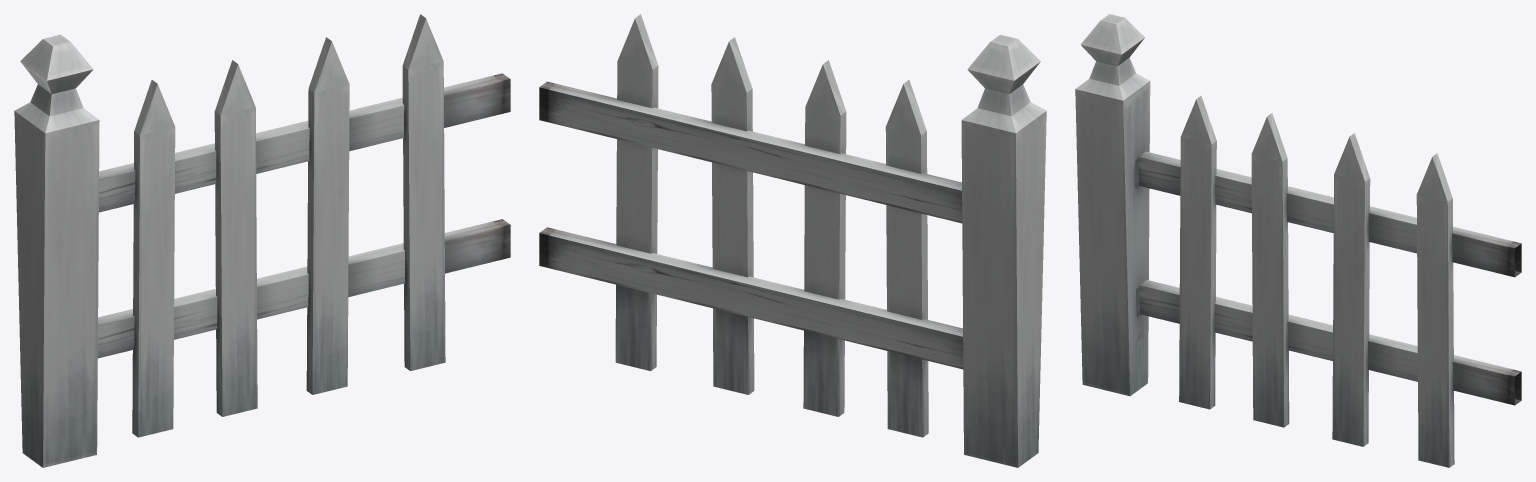
Rendered from fence_picket.obj.
3 renders of one model, left to right at view 1: azimuth 30°, elevation 25°; view 2: azimuth 150°, elevation 25°; view 3: azimuth 330°, elevation 25°, orthographic. The views are drawn at different scales.
Parts seen in each view (by area): view 1: fence_picket; view 2: fence_picket; view 3: fence_picket.
Boxes of the visible parts, x1,y1,x2,y2 form: fence_picket: (14,14,510,467); fence_picket: (539,14,1046,467); fence_picket: (1075,14,1521,467).
Size of the model in its own units: 4.13 by 3.39 by 0.4582.
1 material, 1 textured.
